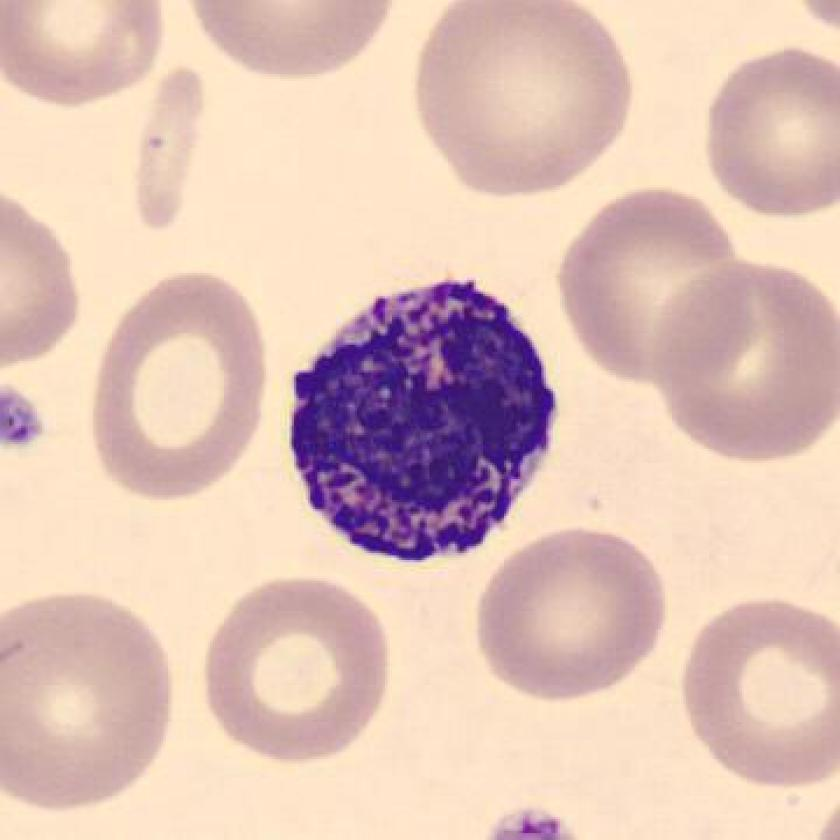basophil: (290, 274, 573, 570)
